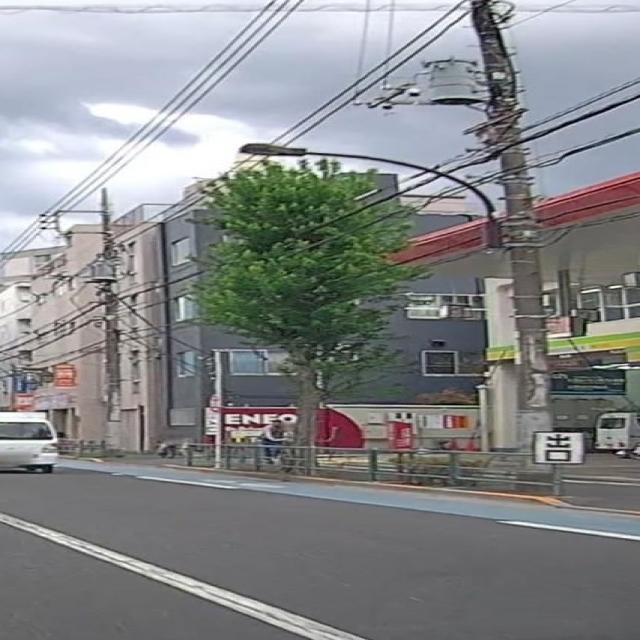maple: (184, 156, 436, 474)
